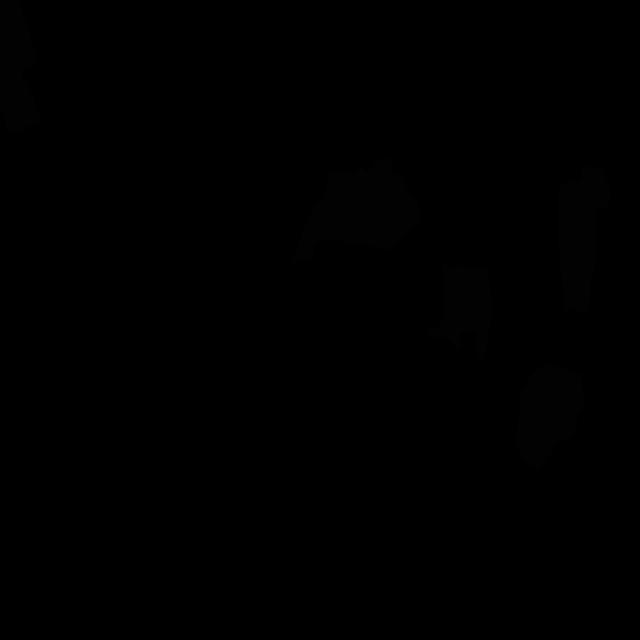cardboard: (292, 157, 420, 264), (558, 165, 610, 314), (516, 363, 585, 469), (428, 263, 492, 363)
